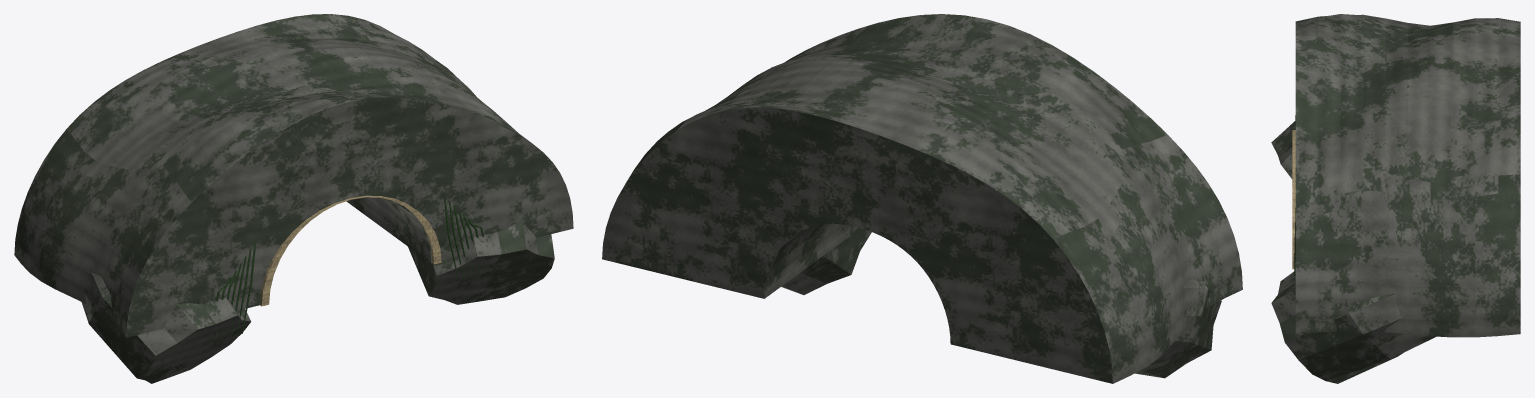
File: EscarpmentArch.raw.glb
The picture shows the model from 3 angles, left to right: view 1: azimuth 30°, elevation 25°; view 2: azimuth 150°, elevation 25°; view 3: azimuth 270°, elevation 25°; orthographic projection. The views are drawn at different scales.
Visible parts, largest first — view 1: WeatheredStrata/primary, MossRoot/primary, CarvedTrim/primary; view 2: WeatheredStrata/primary; view 3: WeatheredStrata/primary, CarvedTrim/primary.
Part boxes in pixels (left/top/right/bottom): WeatheredStrata/primary: left=14, top=14, right=573, bottom=383; MossRoot/primary: left=209, top=196, right=491, bottom=341; CarvedTrim/primary: left=260, top=195, right=441, bottom=306; WeatheredStrata/primary: left=602, top=14, right=1242, bottom=383; WeatheredStrata/primary: left=1271, top=14, right=1520, bottom=383; CarvedTrim/primary: left=1292, top=130, right=1295, bottom=269.
Size of the model in its own units: 34 by 18 by 16.
3 materials, 3 textured.
